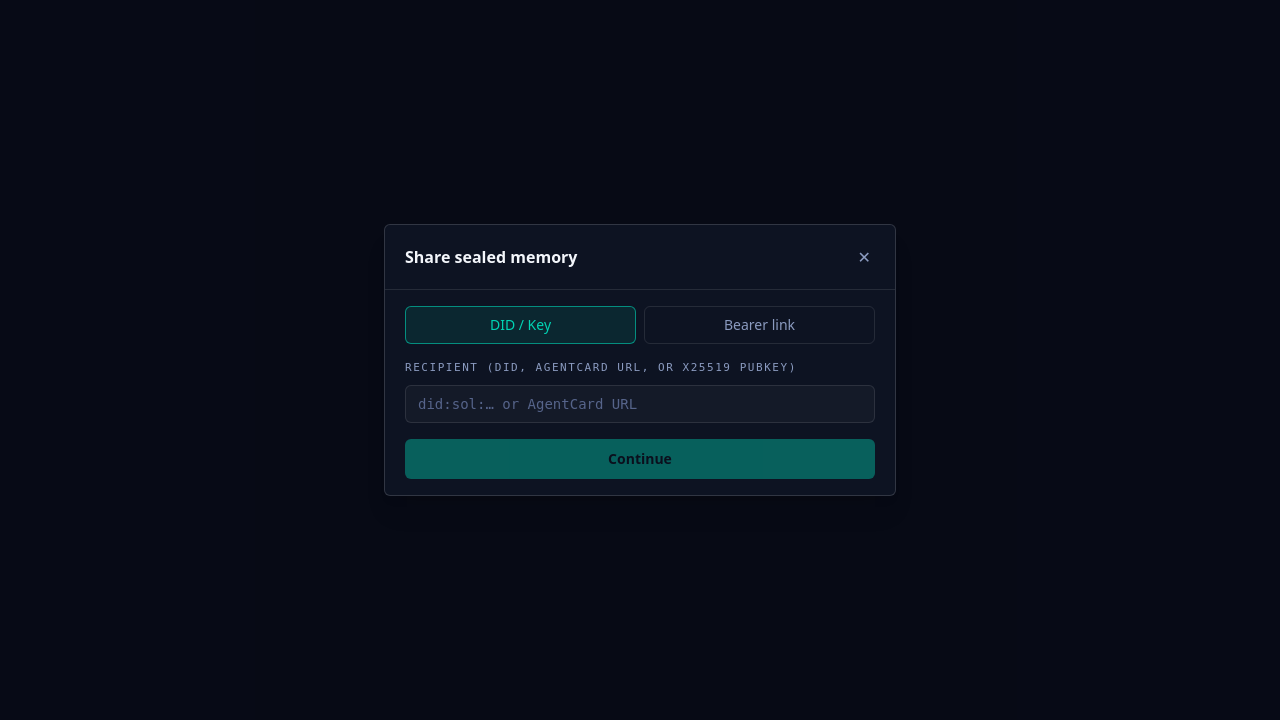
ShareDialog › proceed_button_enabled_when_recipient_entered
In the field with test id "share-recipient-input": [640, 404] box [405,385,875,423], type "did:sol:Recipient123"
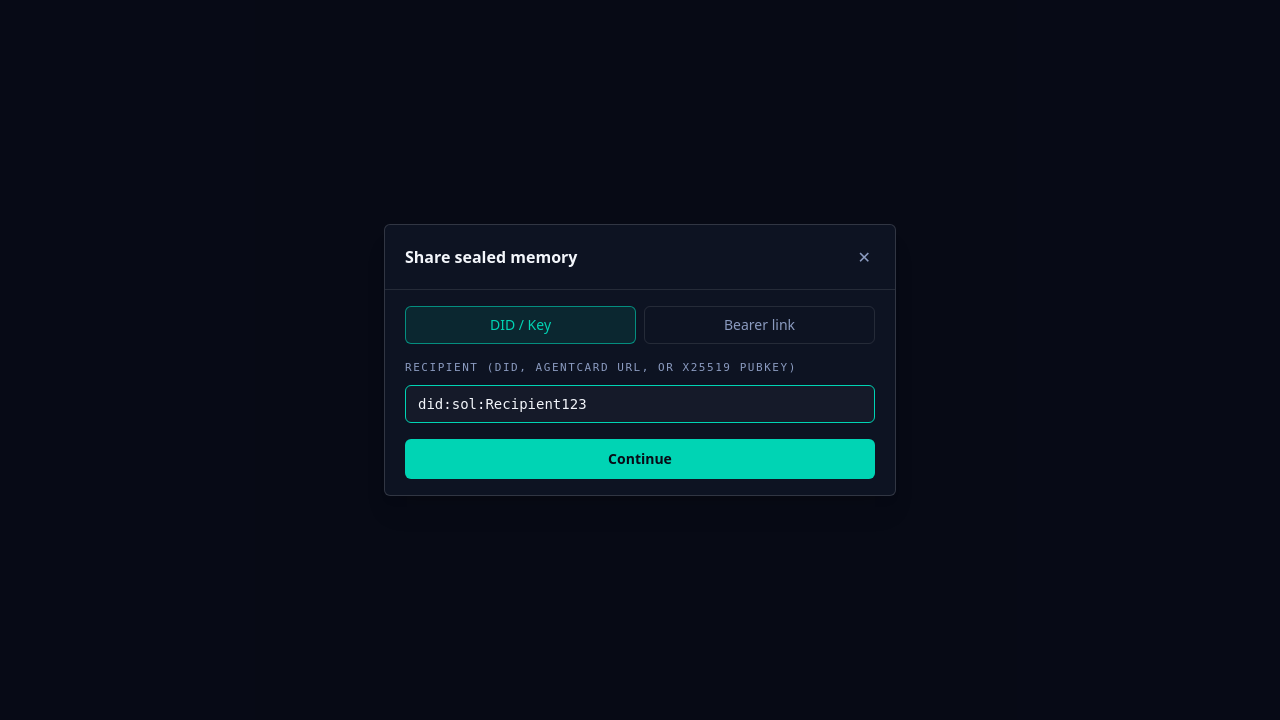
Expected: the button with test id "share-proceed" is enabled, [405,439,875,479]
